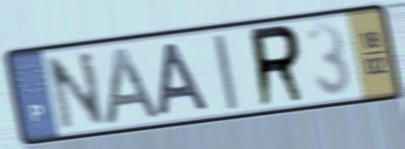3: (306, 17, 352, 101)
A: (103, 45, 166, 127), (156, 39, 213, 119)
I: (209, 30, 242, 113)
N: (43, 48, 109, 133)
R: (247, 21, 309, 111)
